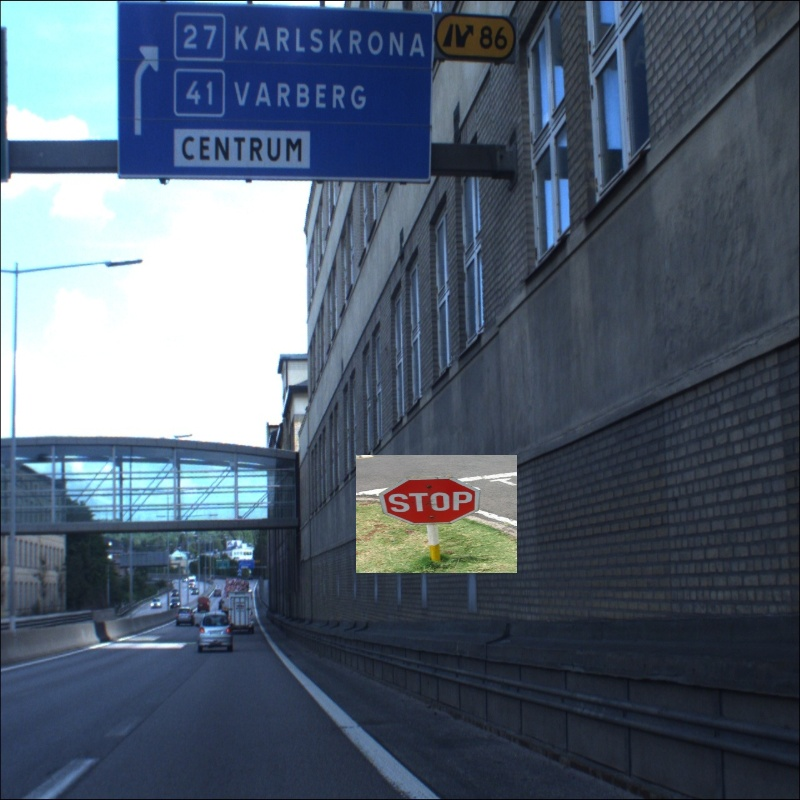stop: (350, 437, 519, 596)
